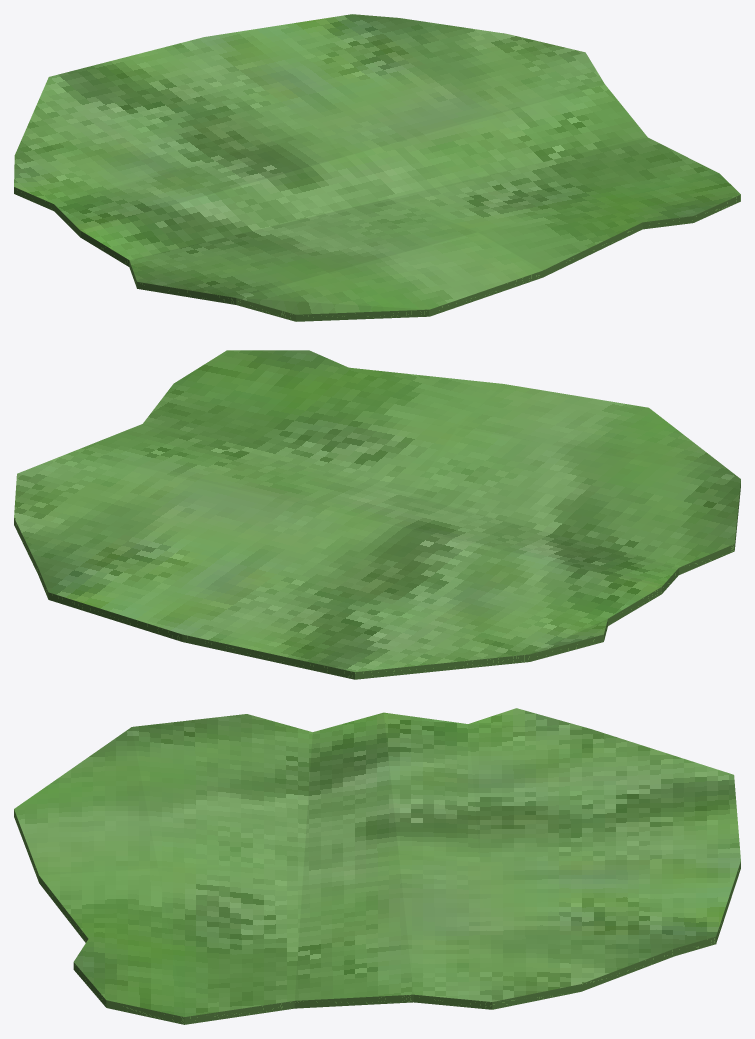
Rendered from Latuk.fbx.
3 renders of one model, top to bottom at view 1: azimuth 30°, elevation 25°; view 2: azimuth 150°, elevation 25°; view 3: azimuth 270°, elevation 25°, orthographic. The views are drawn at different scales.
Parts seen in each view (by area): view 1: Plane.004; view 2: Plane.004; view 3: Plane.004.
Boxes of the visible parts, <box> form: Plane.004: <box>14,14,740,321</box>; Plane.004: <box>14,350,740,679</box>; Plane.004: <box>14,708,740,1024</box>.
Bounding box in the file's own units: 46.97 × 1.91 × 48.07.
